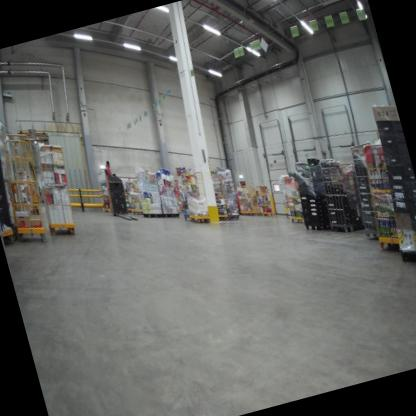pallet_truck: (97, 162, 142, 230)
